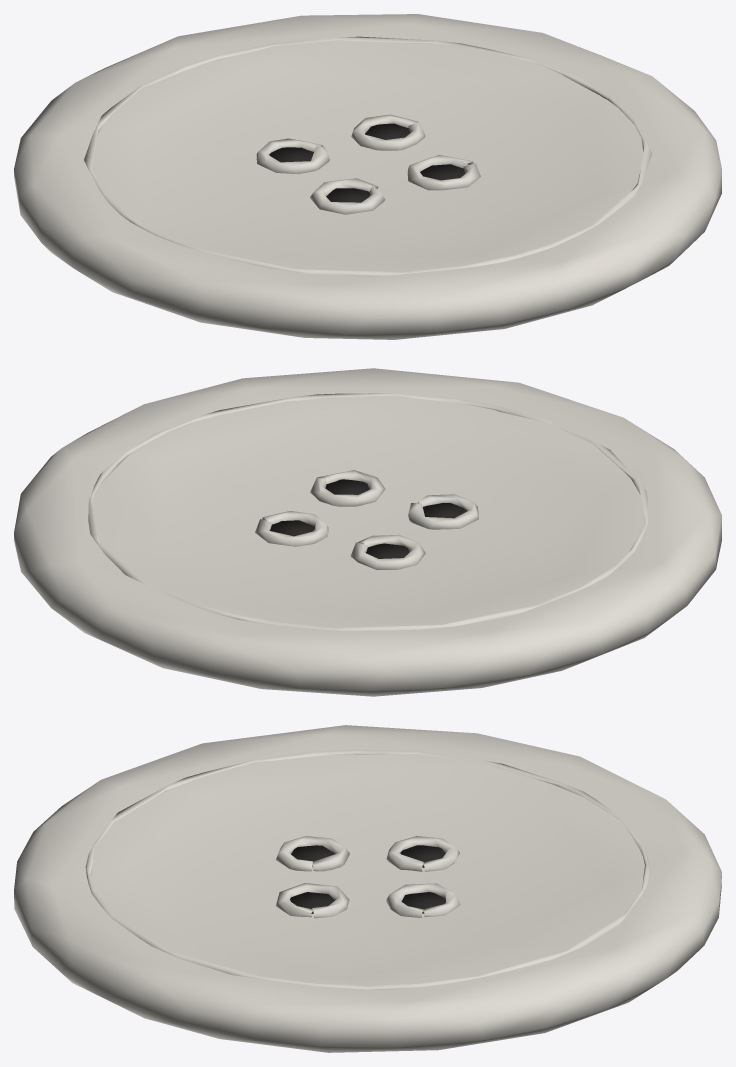
File: snow_button_pearl.glb
The picture shows the model from 3 angles, top to bottom: view 1: azimuth 30°, elevation 25°; view 2: azimuth 150°, elevation 25°; view 3: azimuth 270°, elevation 25°; orthographic projection.
Visible parts, largest first — view 1: prop_snow_button_pearl_pearl, prop_snow_button_pearl_felt; view 2: prop_snow_button_pearl_pearl, prop_snow_button_pearl_felt; view 3: prop_snow_button_pearl_pearl, prop_snow_button_pearl_felt.
Part boxes in pixels (<box>): prop_snow_button_pearl_pearl: <box>14,14,721,339</box>; prop_snow_button_pearl_felt: <box>269,123,465,202</box>; prop_snow_button_pearl_pearl: <box>14,368,721,696</box>; prop_snow_button_pearl_felt: <box>270,479,466,558</box>; prop_snow_button_pearl_pearl: <box>14,725,721,1052</box>; prop_snow_button_pearl_felt: <box>290,845,445,913</box>.
Size of the model in its own units: 0.3801 by 0.0261 by 0.3801.
2 materials, 1 textured.
